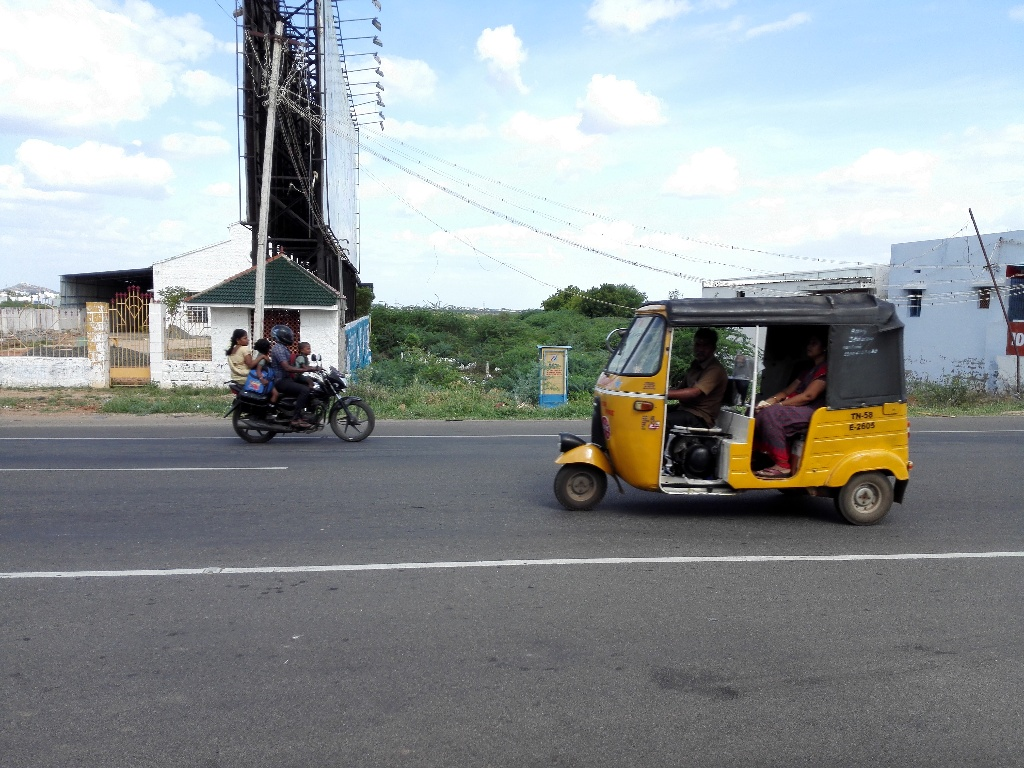biker: (207, 291, 390, 458)
helmet: (271, 321, 297, 348)
nohelmet: (225, 322, 254, 359), (249, 334, 273, 359), (296, 335, 315, 359)
